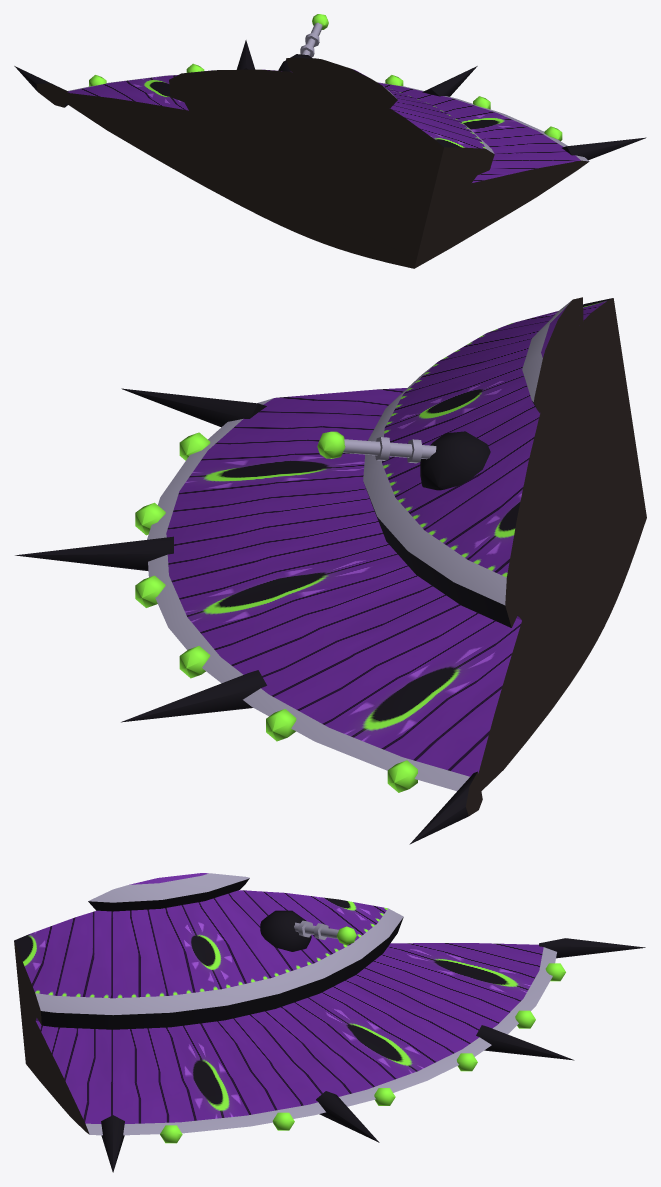
The model's file is dreadnought_debris1.obj.
The picture shows the model from 3 angles, top to bottom: view 1: azimuth 30°, elevation 25°; view 2: azimuth 150°, elevation 25°; view 3: azimuth 270°, elevation 25°; orthographic projection. The views are drawn at different scales.
Visible parts, largest first — view 1: tier1, tier2, rim_spike, tier3, rim_light; view 2: tier1, tier2, rim_spike, rim_light, tier3, turret, turret_gun; view 3: tier1, tier2, rim_spike, tier3, rim_light, turret.
Part boxes in pixels (x1,y1,x2,y2): tier1: (65, 75, 589, 268); tier2: (169, 69, 494, 193); rim_spike: (14, 40, 646, 160); tier3: (286, 58, 397, 108); rim_light: (89, 63, 562, 141); tier1: (147, 375, 646, 790); tier2: (363, 298, 625, 627); rim_spike: (15, 388, 482, 844); rim_light: (135, 432, 417, 792); tier3: (522, 297, 583, 412); turret: (420, 431, 490, 490); turret_gun: (343, 439, 436, 459); tier1: (18, 943, 556, 1135); tier2: (14, 890, 403, 1029); rim_spike: (101, 938, 645, 1172); tier3: (88, 873, 249, 911); rim_light: (160, 963, 565, 1143); turret: (260, 910, 311, 951).
Bounding box in the file's own units: 42.5 × 16.65 × 49.79.
Materials: 6 (1 with a texture image).
